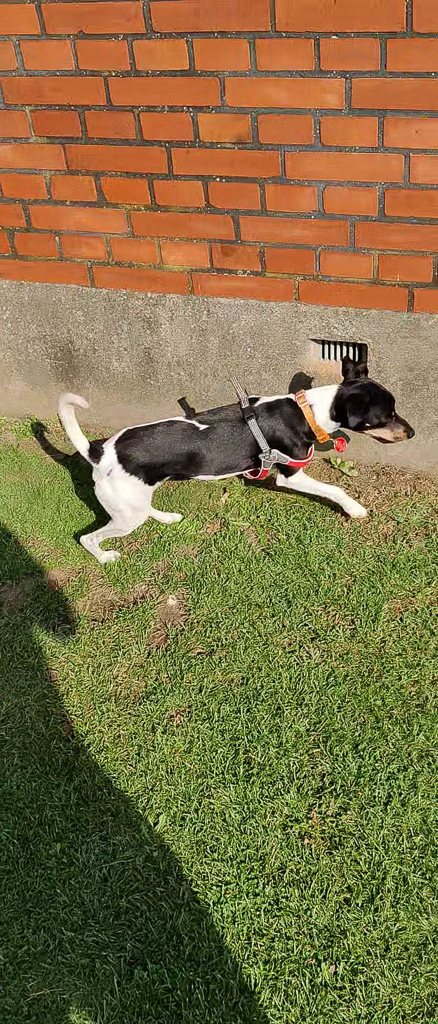Dog: (43, 346, 429, 570)
